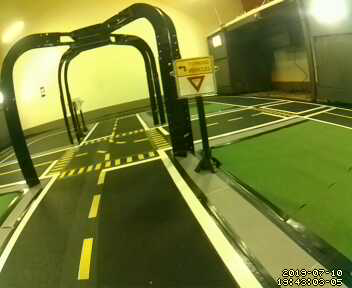Turn Yield: (172, 57, 219, 98)
